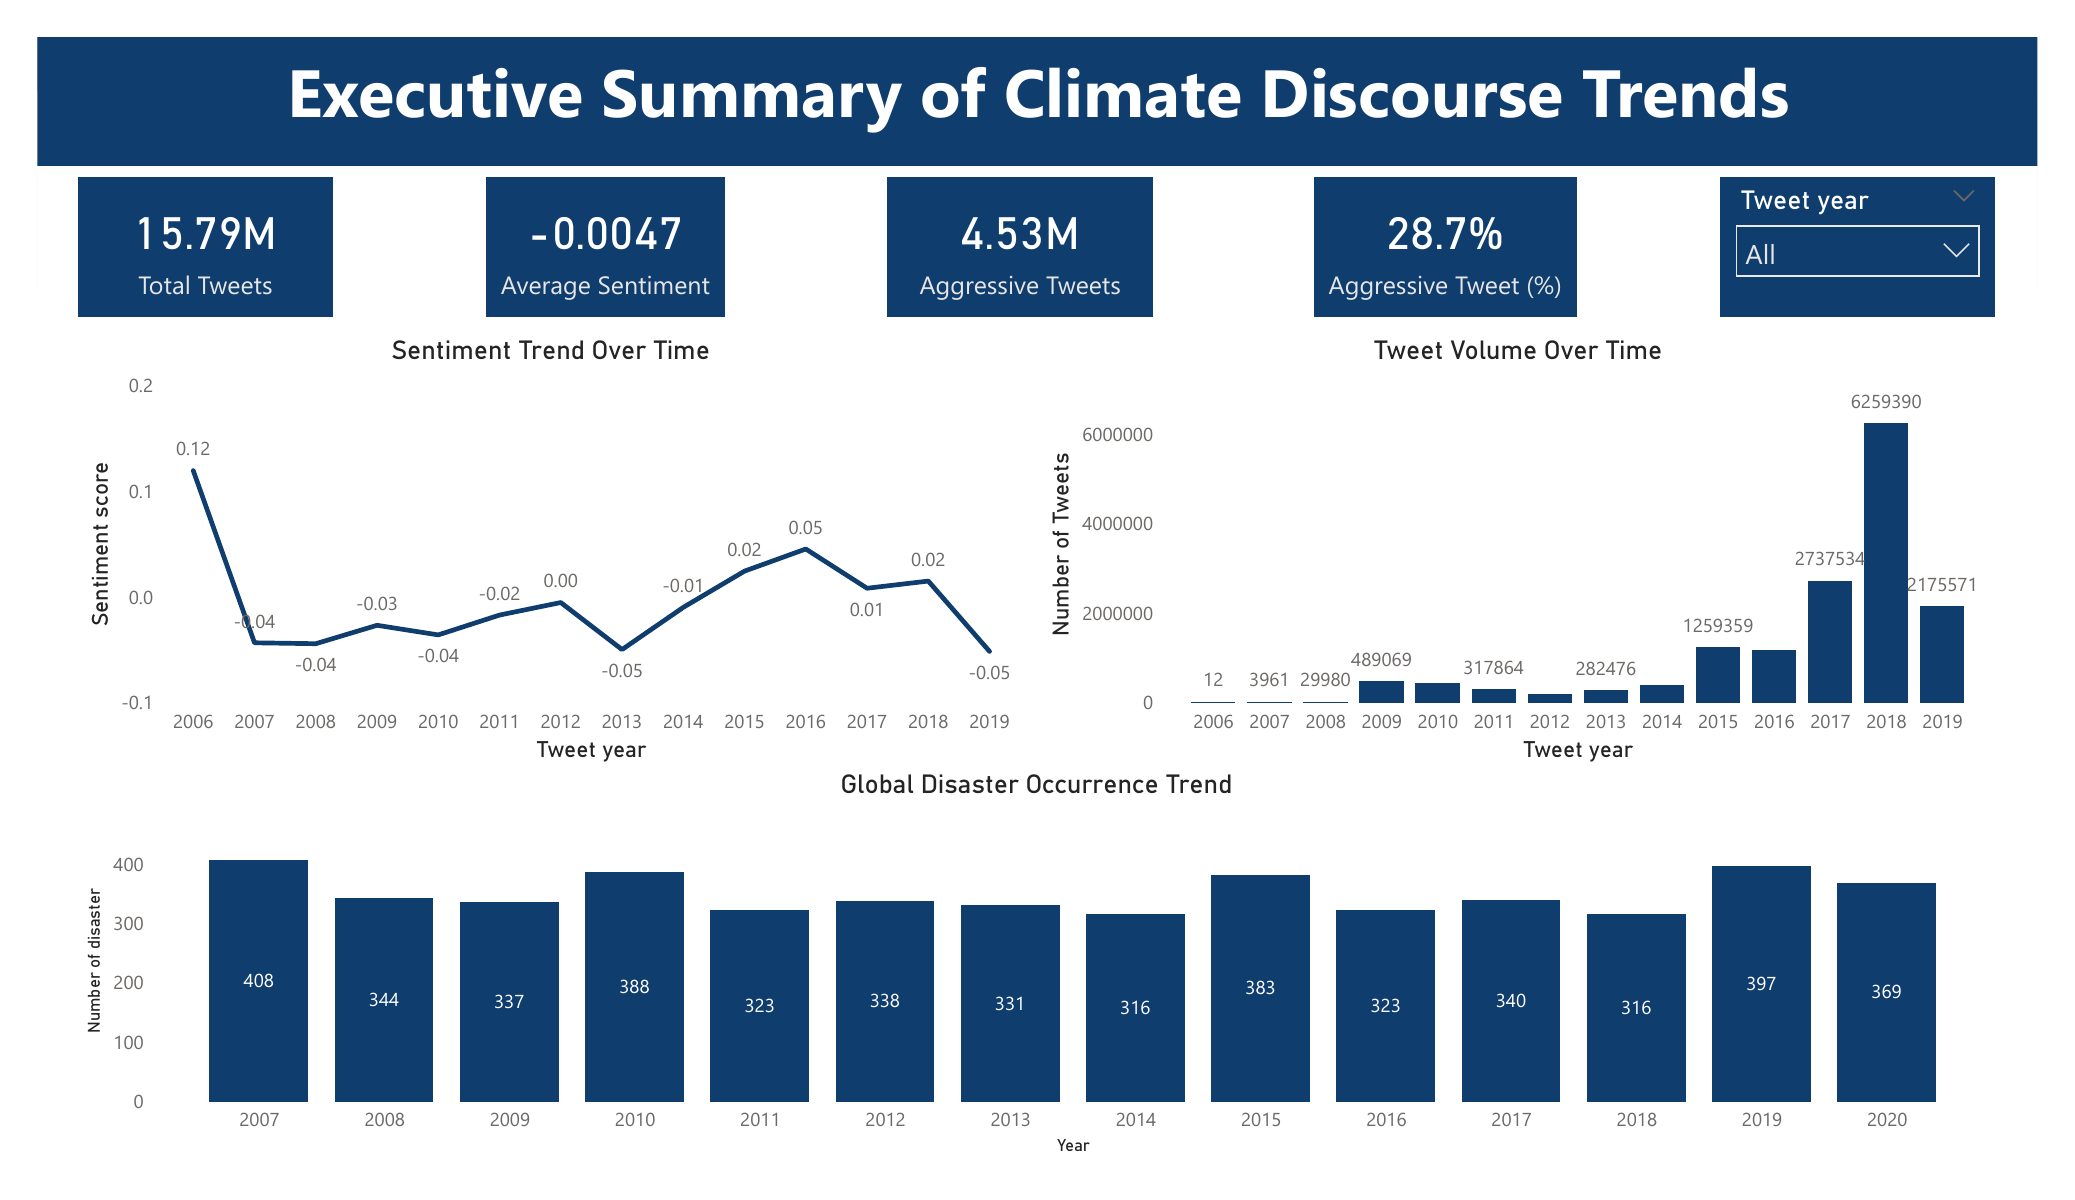

What the dashboard file says about the page in this screenshot:
{"tool":"tableau","page":{"name":"Page 1","canvas":[1000,1000],"units":"permille","ordinal":2},"visuals":[{"type":"text","box":[7,10.8,986,72.3]},{"type":"worksheet","title":"Sheet 5","mark":"Text","box":[7,83,322.2,94.1]},{"type":"worksheet","title":"Sheet 7","mark":"Text","box":[329.2,83,342.4,94.1]},{"type":"worksheet","title":"Sheet 6","mark":"Text","box":[671.6,83,321.4,94.1]},{"type":"filter","title":"Sheet 2","param":"[federated.0t04x5t1wbccgz1bu4hci1i13do6].[yr:orderDate:ok]","box":[840.1,180.1,142.1,134.4]},{"type":"worksheet","title":"Sheet 1","mark":"Bar","rows":["categoryName"],"cols":["Calculation_1402216471646209"],"box":[493.8,184.1,328.6,547]},{"type":"worksheet","title":"Sheet 2","mark":"Automatic","rows":["Calculation_1402216471646209"],"cols":["orderDate"],"box":[17.8,188.2,468.9,251.3]},{"type":"filter","title":"Sheet 1","param":"[federated.0t04x5t1wbccgz1bu4hci1i13do6].[none:categoryName:nk]","box":[841.9,349.5,139.4,262.1]},{"type":"worksheet","title":"Sheet 3","mark":"Automatic","rows":["orderID (orders)"],"cols":["orderDate"],"box":[16.9,446.2,464.5,286.3]}]}

Visuals, with their boxes on the dashboard's canvas, which has no fixed pixel size, in thousandths of its width and height (x1, y1, x2, y2). These are canvas units, not pixel positions in the 2075x1200 screenshot, which may show the page scaled, cropped or inside an application window:
text: crop(7, 11, 993, 83)
"Sheet 5" worksheet (Text marks): crop(7, 83, 329, 177)
"Sheet 7" worksheet (Text marks): crop(329, 83, 672, 177)
"Sheet 6" worksheet (Text marks): crop(672, 83, 993, 177)
"Sheet 2" filter: crop(840, 180, 982, 314)
"Sheet 1" worksheet (Bar marks): crop(494, 184, 822, 731)
"Sheet 2" worksheet: crop(18, 188, 487, 440)
"Sheet 1" filter: crop(842, 350, 981, 612)
"Sheet 3" worksheet: crop(17, 446, 481, 732)
